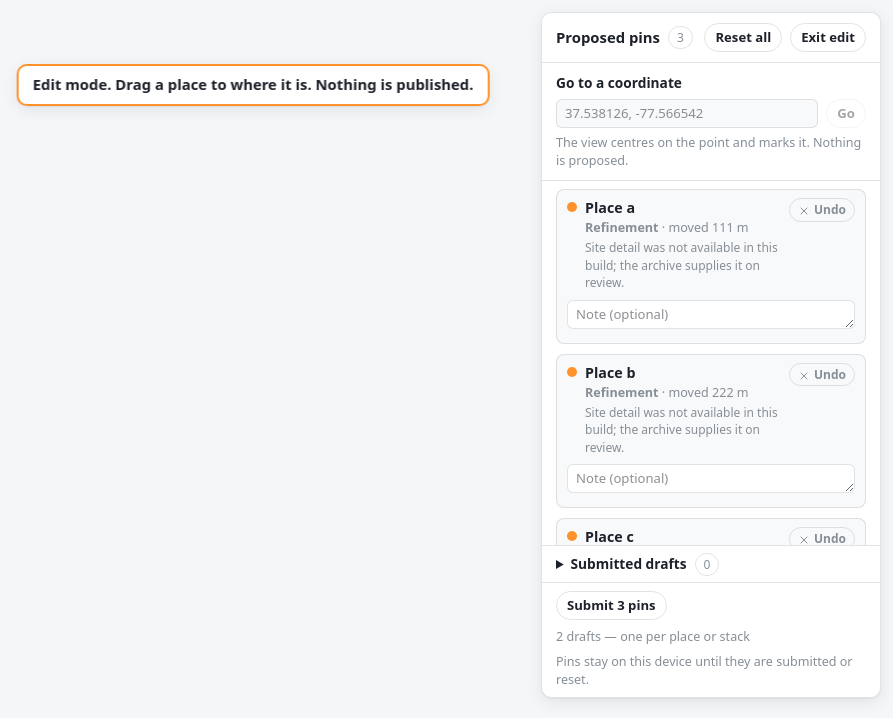
a refused draft keeps its pins and shows the Worker's reason; the other draft still stores
The image size is (893, 718).
What coordinates should you click on to do the following:
click the button "Submit 3 pins"
I would click on:
 (611, 606)
Its box is [556,591,666,620].
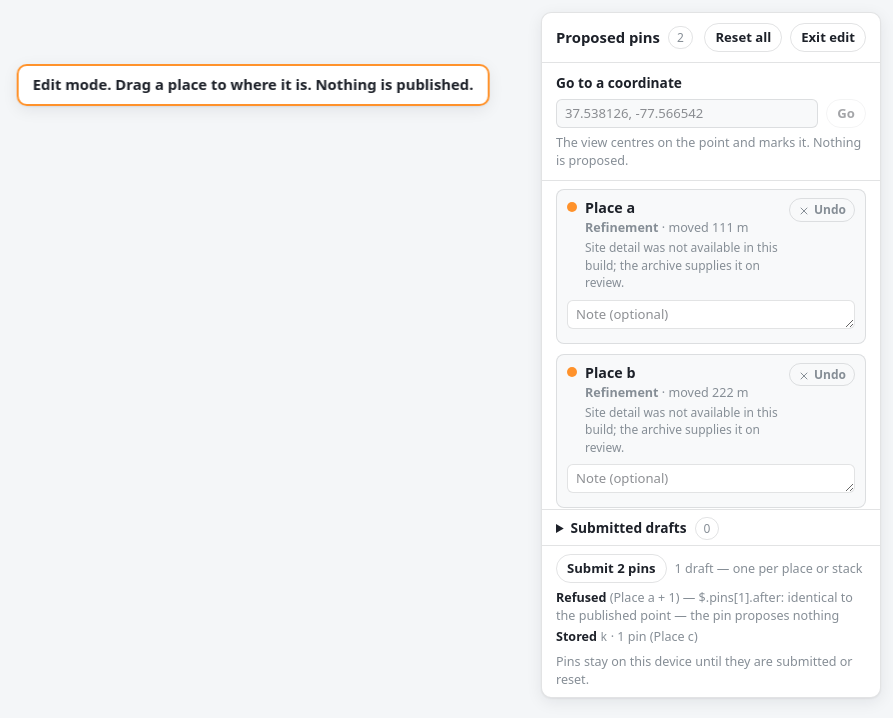
Expected: the text "2" is shown, [668,26,693,49]
Expected: the list item that starts with "Refused" shows "Refused (Place a + 1) — $.pins[1].after: identical to the published point", [556,590,866,624]
